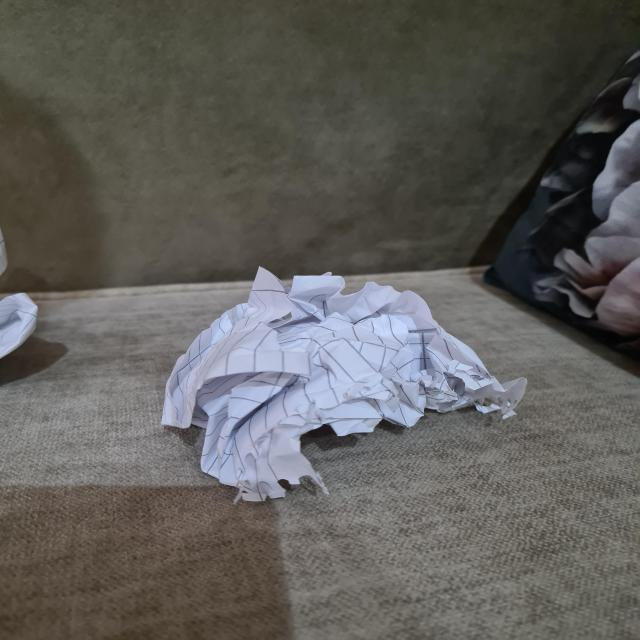cardboard paper: (161, 266, 524, 499)
